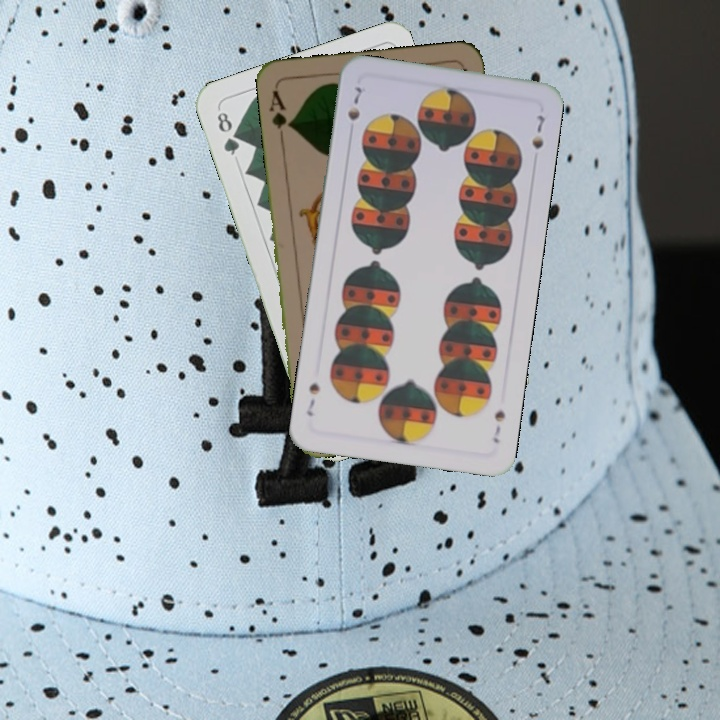G8: (213, 108, 242, 158)
GA: (266, 86, 295, 143)
S7: (343, 82, 365, 123), (489, 406, 508, 446)
